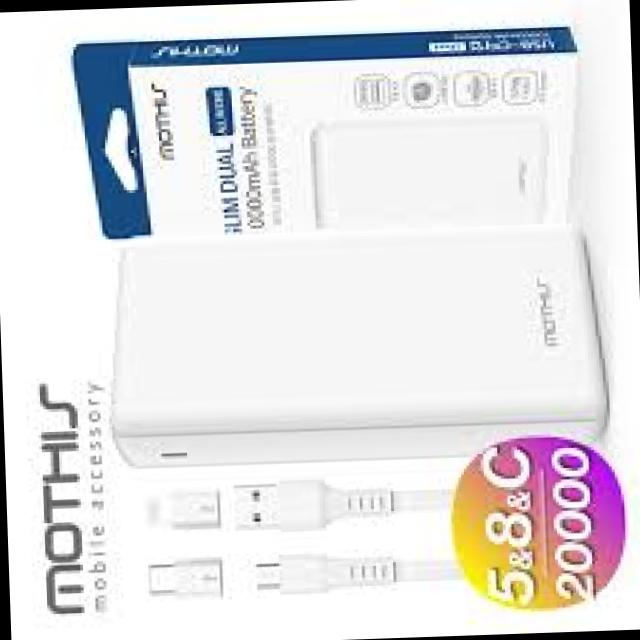portable-charger: (105, 222, 602, 472), (304, 110, 556, 241)
